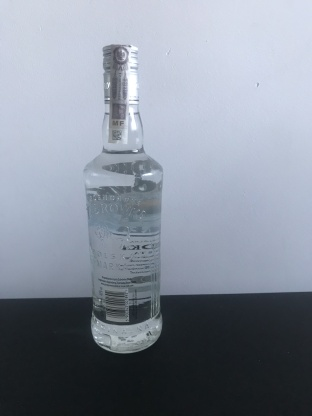nakretka: (99, 39, 142, 107)
